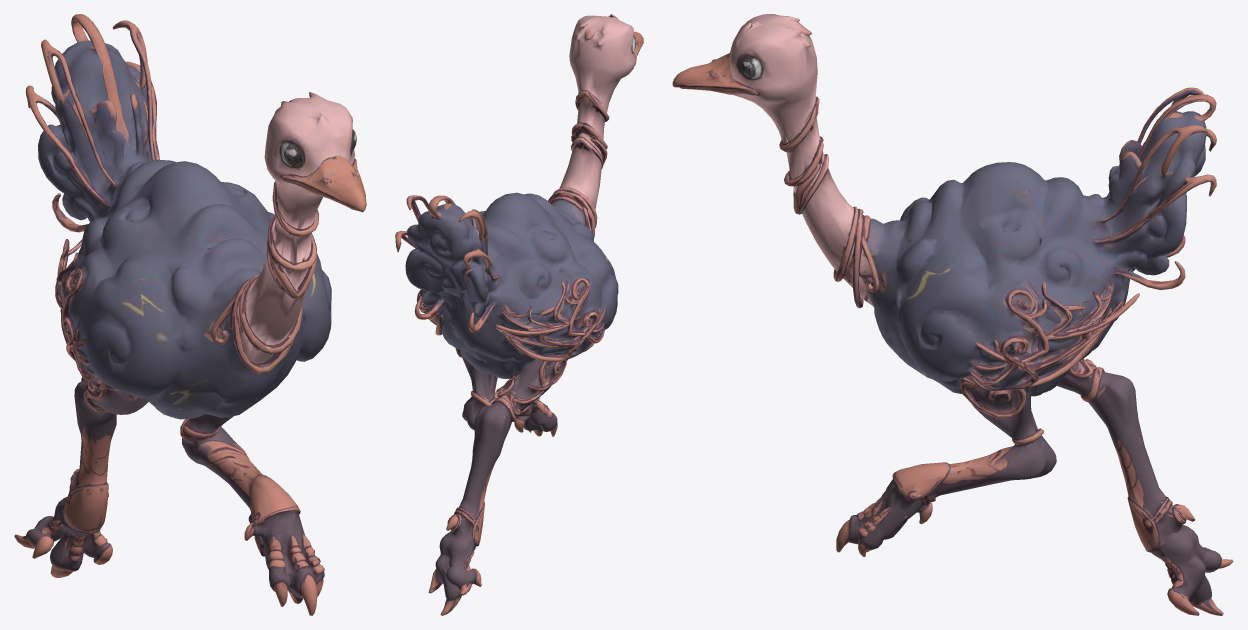
Rendered from nimbostrich.glb.
3 views of the same model, side by side, from view 1: azimuth 30°, elevation 25°; view 2: azimuth 150°, elevation 25°; view 3: azimuth 270°, elevation 25° (orthographic). The views are drawn at different scales.
Parts seen in each view (by area): view 1: Mesh_0; view 2: Mesh_0; view 3: Mesh_0.
Boxes of the visible parts, box(x1,y1,x2,y2) form: Mesh_0: box(14, 14, 366, 615); Mesh_0: box(395, 14, 643, 615); Mesh_0: box(672, 14, 1233, 615).
Size of the model in its own units: 0.7252 by 1.89 by 1.6.
1 material, 1 textured.
